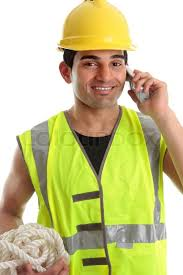Person_wearing_helmet: (48, 0, 137, 70)
